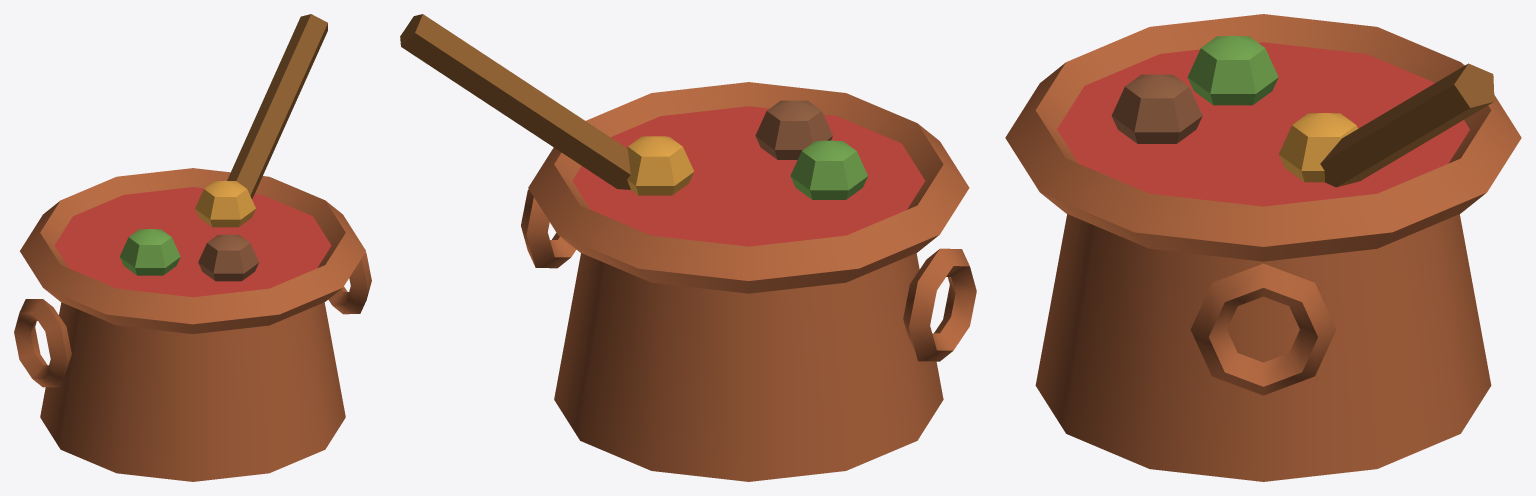
The model's file is PR_Drink_Guvec.fbx.
3 views of the same model, side by side, from view 1: azimuth 30°, elevation 25°; view 2: azimuth 150°, elevation 25°; view 3: azimuth 270°, elevation 25° (orthographic). The views are drawn at different scales.
Visible parts, largest first — view 1: PR_Drink_Guvec; view 2: PR_Drink_Guvec; view 3: PR_Drink_Guvec.
Part boxes in pixels (x1,y1,x2,y2): PR_Drink_Guvec: [14, 14, 371, 481]; PR_Drink_Guvec: [400, 14, 976, 481]; PR_Drink_Guvec: [1005, 14, 1521, 481].
Size of the model in its own units: 0.2068 by 0.1664 by 0.17.
1 material, 1 textured.
